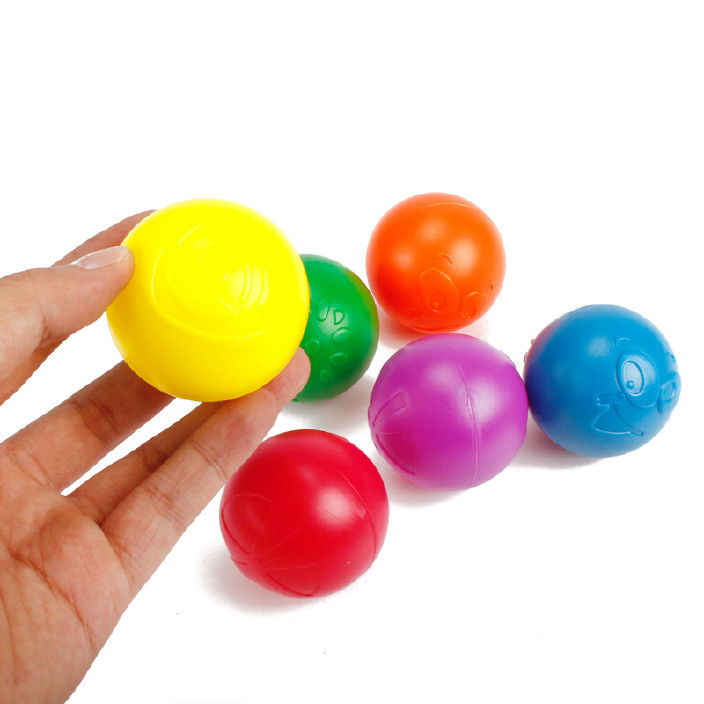no-phone: (1, 193, 312, 704)
